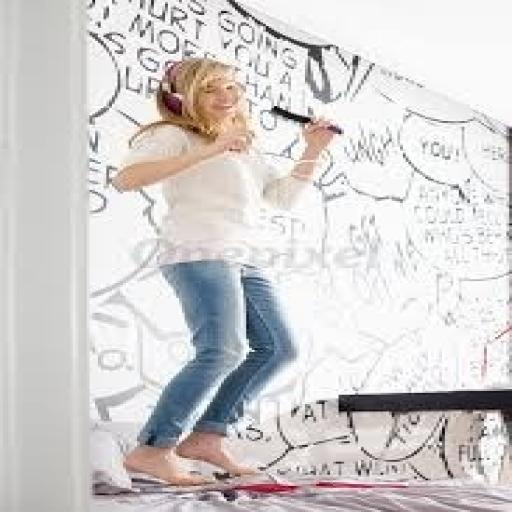listening_to_music: (106, 56, 344, 490)
